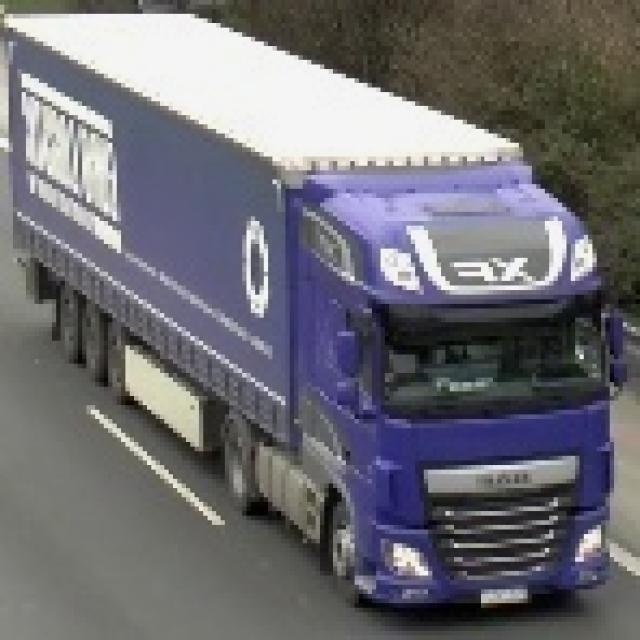TRUCK: (8, 11, 628, 622)
